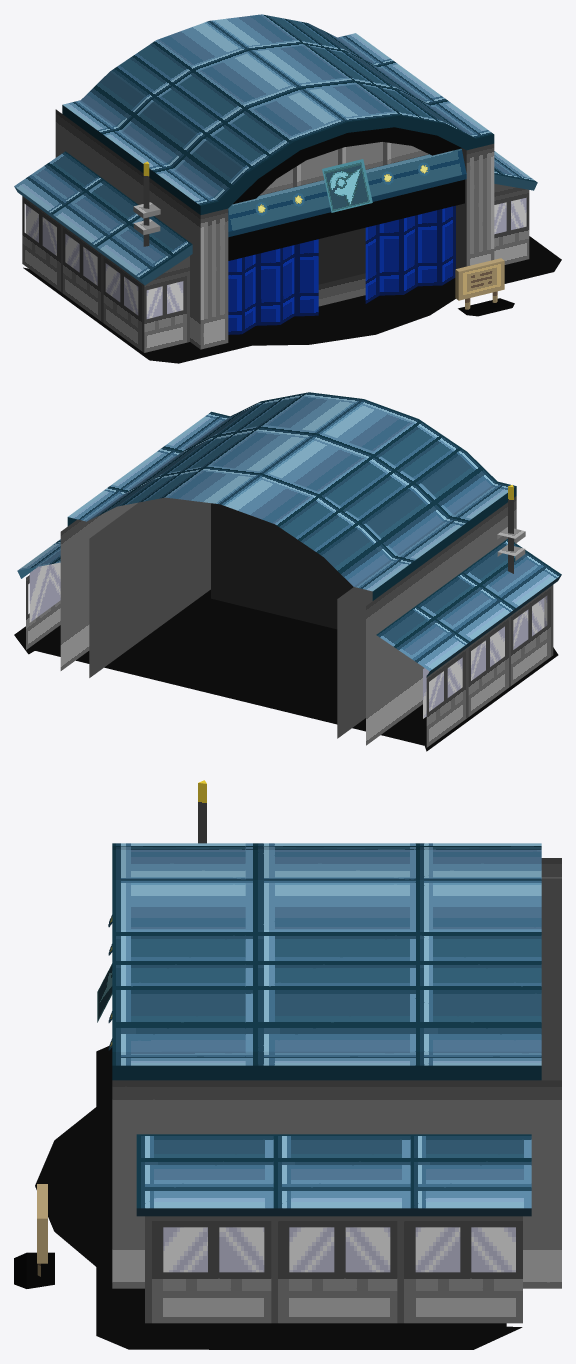
The model's file is c06_gym_01.dae.
The picture shows the model from 3 angles, top to bottom: view 1: azimuth 30°, elevation 25°; view 2: azimuth 150°, elevation 25°; view 3: azimuth 270°, elevation 25°; orthographic projection. The views are drawn at different scales.
Visible parts, largest first — view 1: c06_gym_01; view 2: c06_gym_01; view 3: c06_gym_01.
Boxes of the visible parts, bbox=[...] form: c06_gym_01: bbox=[14, 14, 561, 363]; c06_gym_01: bbox=[14, 392, 561, 751]; c06_gym_01: bbox=[14, 780, 561, 1349].
Bounding box in the file's own units: 182 × 81.38 × 133.
